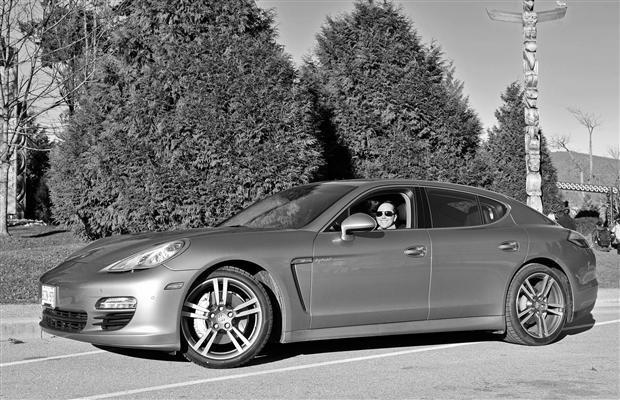car: (38, 178, 603, 371)
